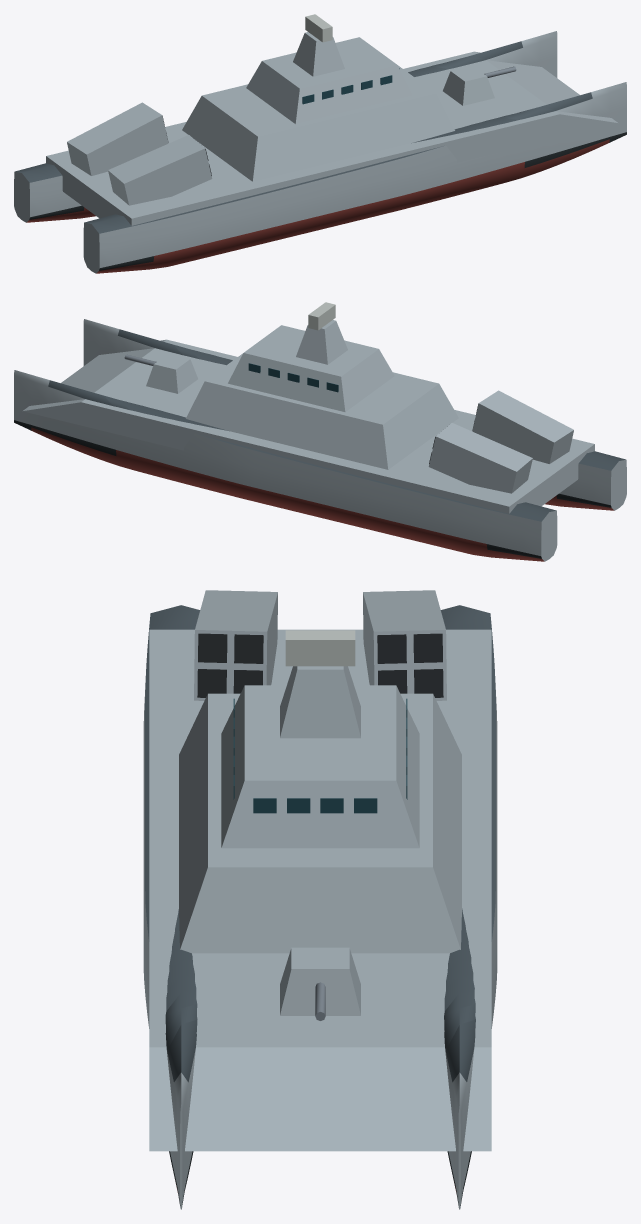
Rendered from pla_pgg_type022.glb.
The picture shows the model from 3 angles, top to bottom: view 1: azimuth 30°, elevation 25°; view 2: azimuth 150°, elevation 25°; view 3: azimuth 270°, elevation 25°; orthographic projection. The views are drawn at different scales.
Parts seen in each view (by area): view 1: naval_paint, antifouling, deck_non_skid, boot_topping, array_face, glazing; view 2: naval_paint, antifouling, deck_non_skid, boot_topping, array_face, glazing; view 3: naval_paint, deck_non_skid, rubber, array_face, glazing.
Part boxes in pixels (x1,y1,x2,y2): naval_paint: [14, 31, 626, 273]; antifouling: [26, 139, 609, 273]; deck_non_skid: [15, 41, 592, 233]; boot_topping: [29, 132, 626, 270]; array_face: [305, 14, 332, 42]; glazing: [302, 68, 399, 104]; naval_paint: [14, 319, 626, 561]; antifouling: [31, 427, 614, 561]; deck_non_skid: [48, 329, 625, 521]; boot_topping: [14, 420, 611, 558]; array_face: [308, 302, 335, 330]; glazing: [248, 363, 338, 392]; naval_paint: [143, 590, 497, 1209]; deck_non_skid: [145, 605, 495, 1082]; rubber: [197, 633, 443, 697]; array_face: [285, 630, 355, 666]; glazing: [233, 698, 407, 813].
Size of the model in its own units: 10 by 3.05 by 2.86.
